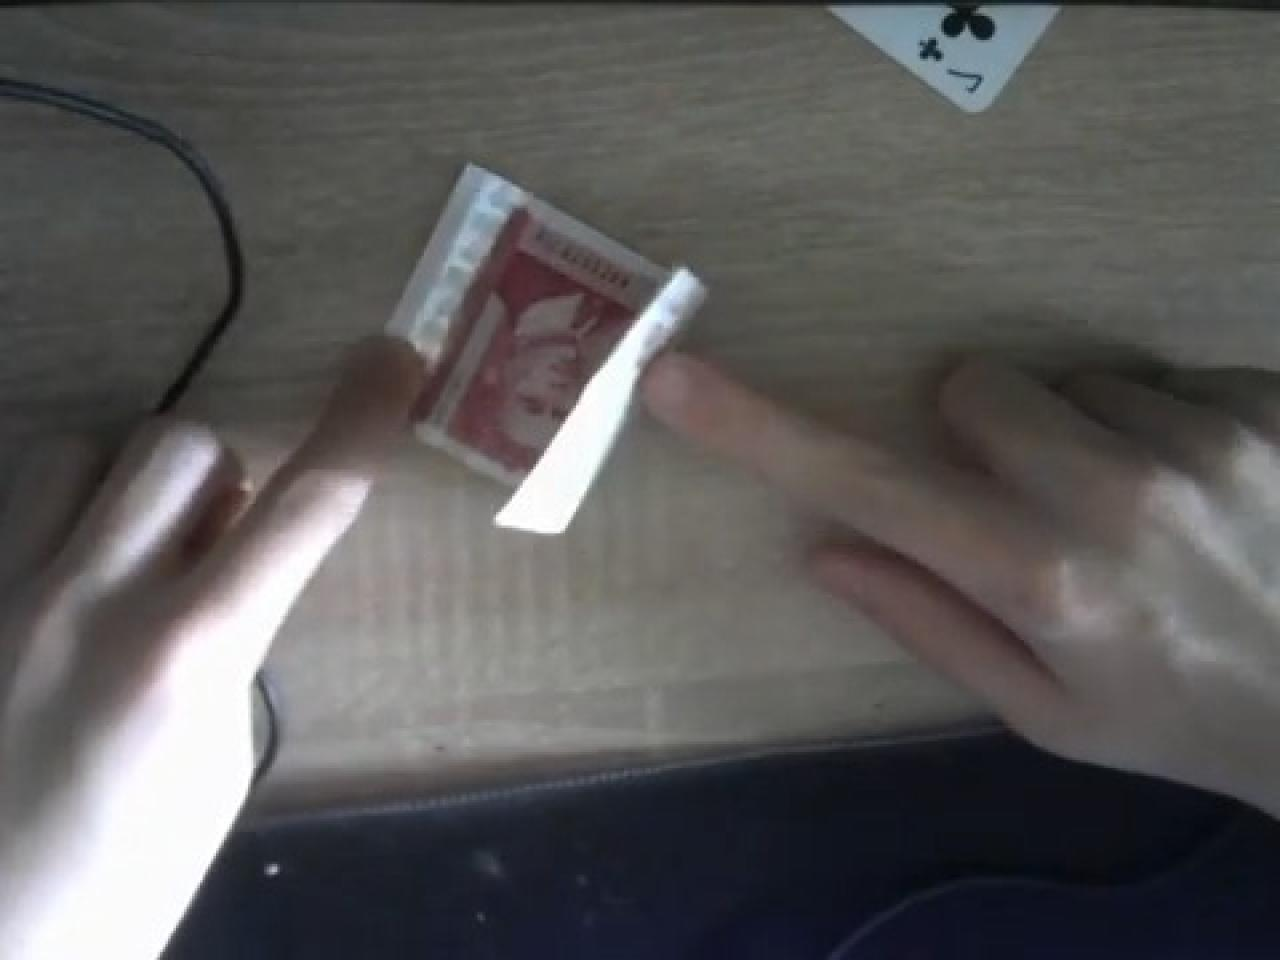5leva: (411, 171, 707, 533)
